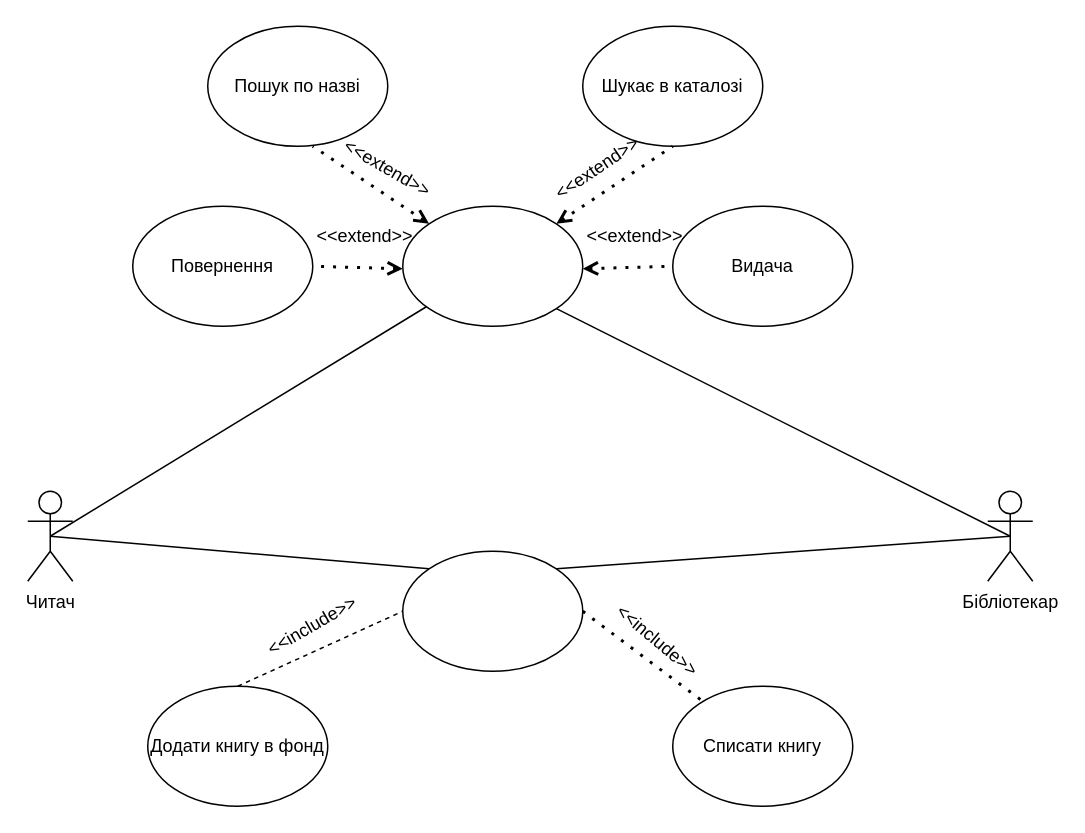
Image size: 1085x833. Some labels were removed from this diagram. The centre of each missing label's shape, as x and y in pixels:
Книга: [492,265]
Фонд: [492,610]
